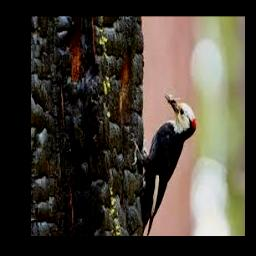Woodpecker: (131, 91, 195, 236)
